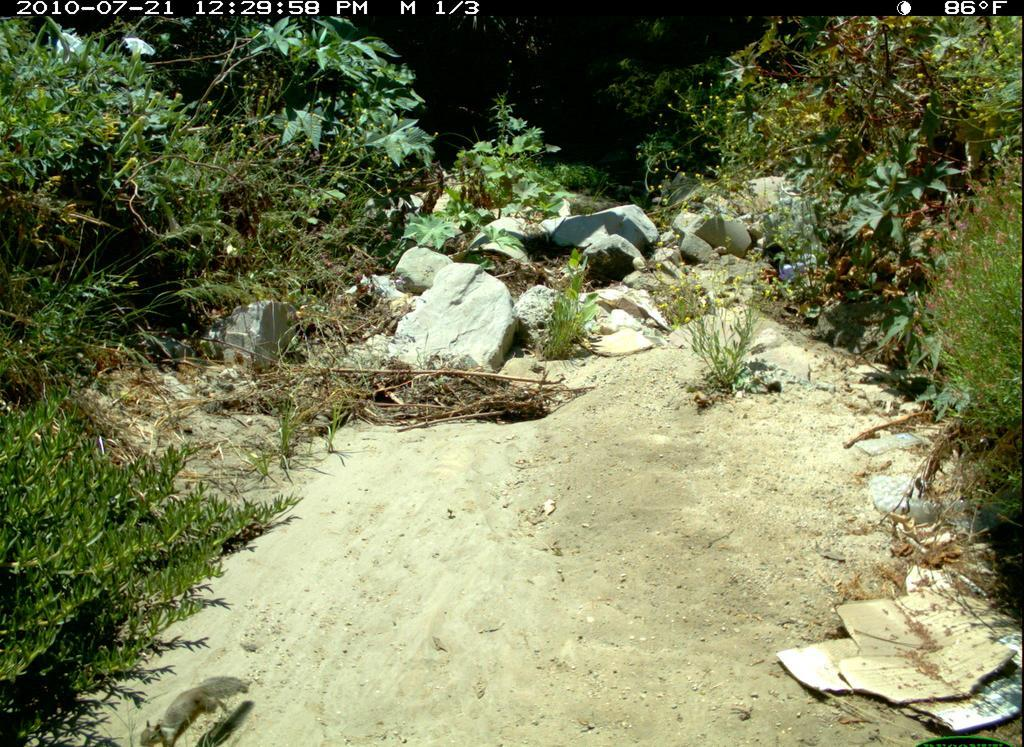squirrel: (123, 670, 265, 747)
